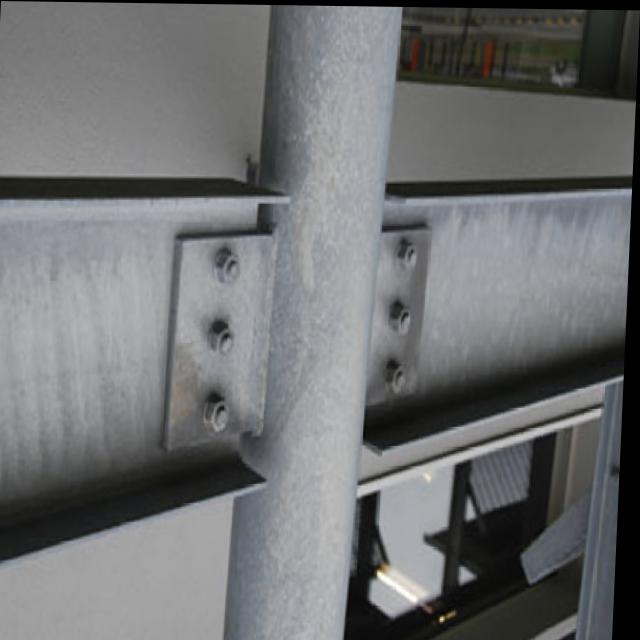Regular bolt: (211, 247, 246, 284), (208, 320, 241, 359), (203, 400, 238, 434), (389, 304, 421, 338), (384, 363, 414, 397), (399, 238, 426, 275)
